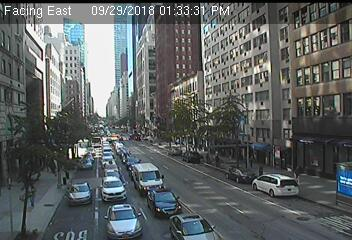car: (104, 205, 144, 238), (170, 213, 218, 240), (253, 173, 300, 197), (132, 163, 166, 194), (147, 189, 182, 216), (100, 177, 127, 203), (69, 183, 92, 206), (224, 167, 255, 183), (182, 151, 203, 164), (103, 170, 122, 183), (126, 155, 141, 169), (103, 161, 120, 171), (166, 147, 182, 157), (79, 159, 93, 170), (82, 154, 92, 163)
